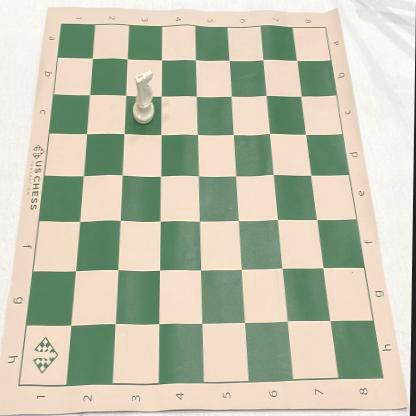white-knight: (132, 70, 156, 124)
